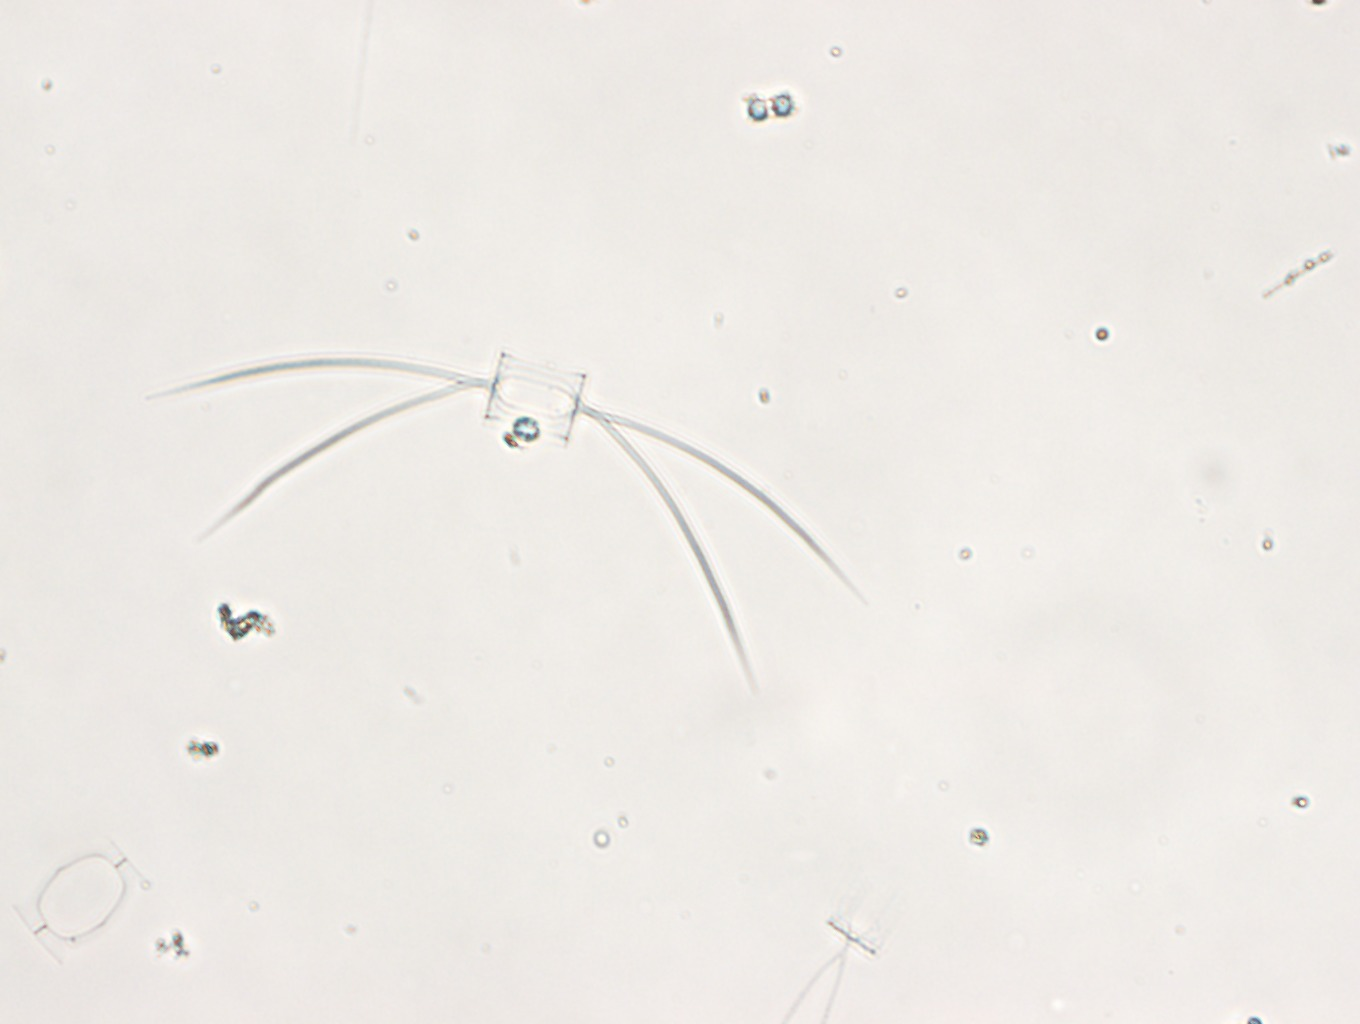chaetoceros: (143, 346, 870, 702)
